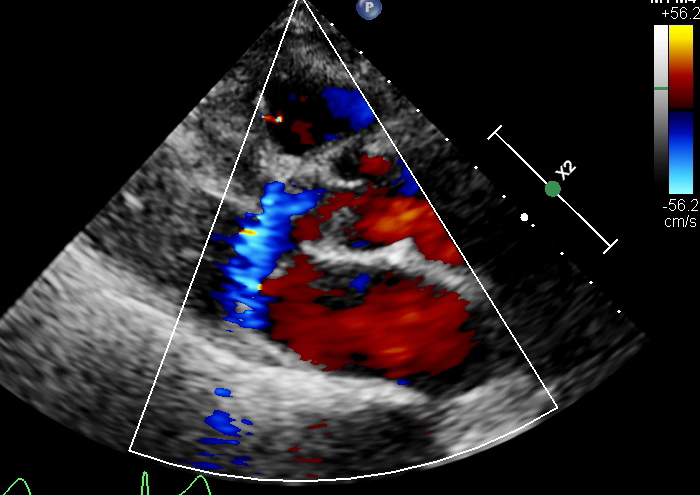TR: (236, 178, 320, 284)
